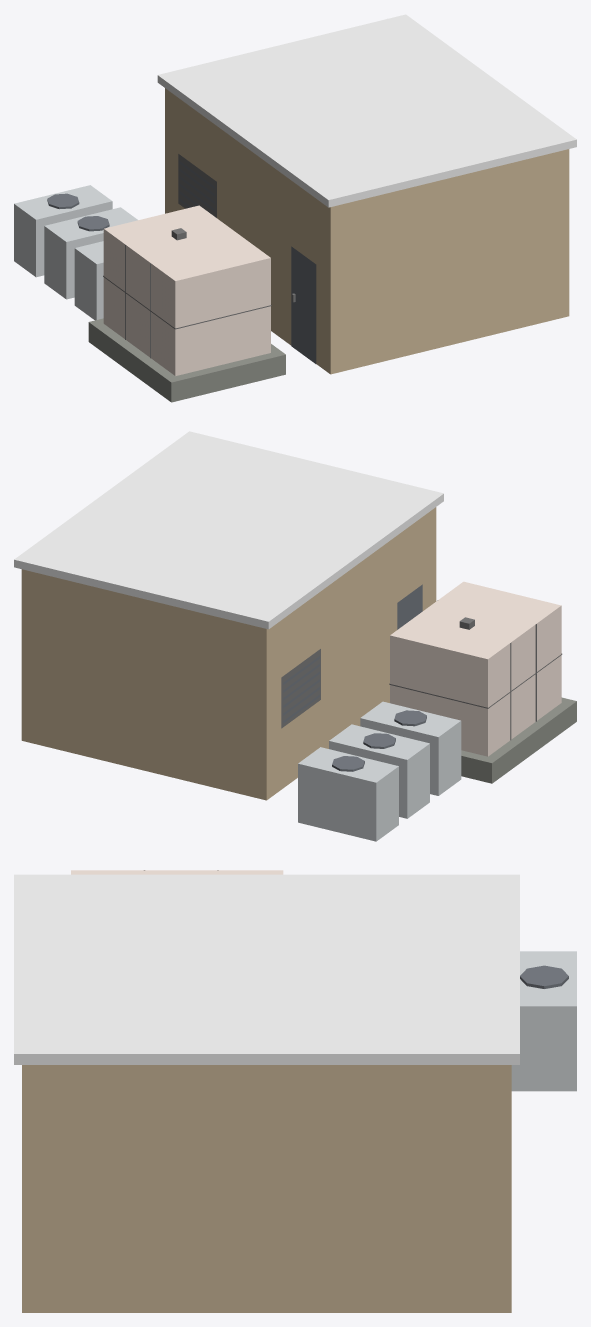
The model's file is roofprop_close.fbx.
The picture shows the model from 3 angles, top to bottom: view 1: azimuth 30°, elevation 25°; view 2: azimuth 150°, elevation 25°; view 3: azimuth 270°, elevation 25°; orthographic projection. The views are drawn at different scales.
Visible parts, largest first — view 1: a2007/0/roofprop_close; view 2: a2007/0/roofprop_close; view 3: a2007/0/roofprop_close.
Part boxes in pixels (x1=…): a2007/0/roofprop_close: x1=14, y1=14, x2=576, y2=402; a2007/0/roofprop_close: x1=14, y1=431, x2=576, y2=841; a2007/0/roofprop_close: x1=14, y1=870, x2=576, y2=1312.
Bounding box in the file's own units: 8.2 × 3.55 × 6.9.
